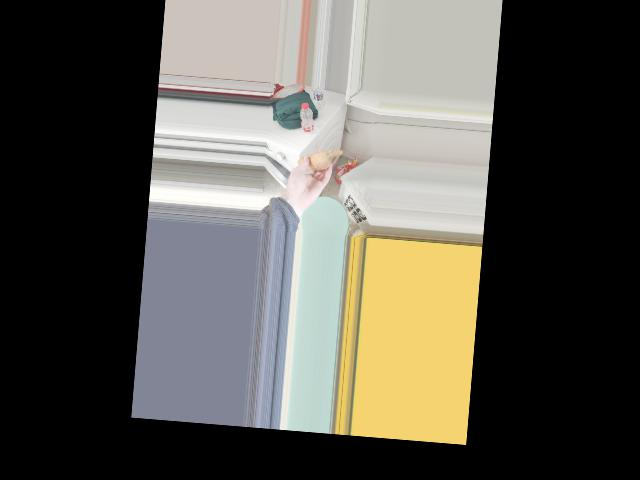sweet_potato: (302, 149, 330, 170)
